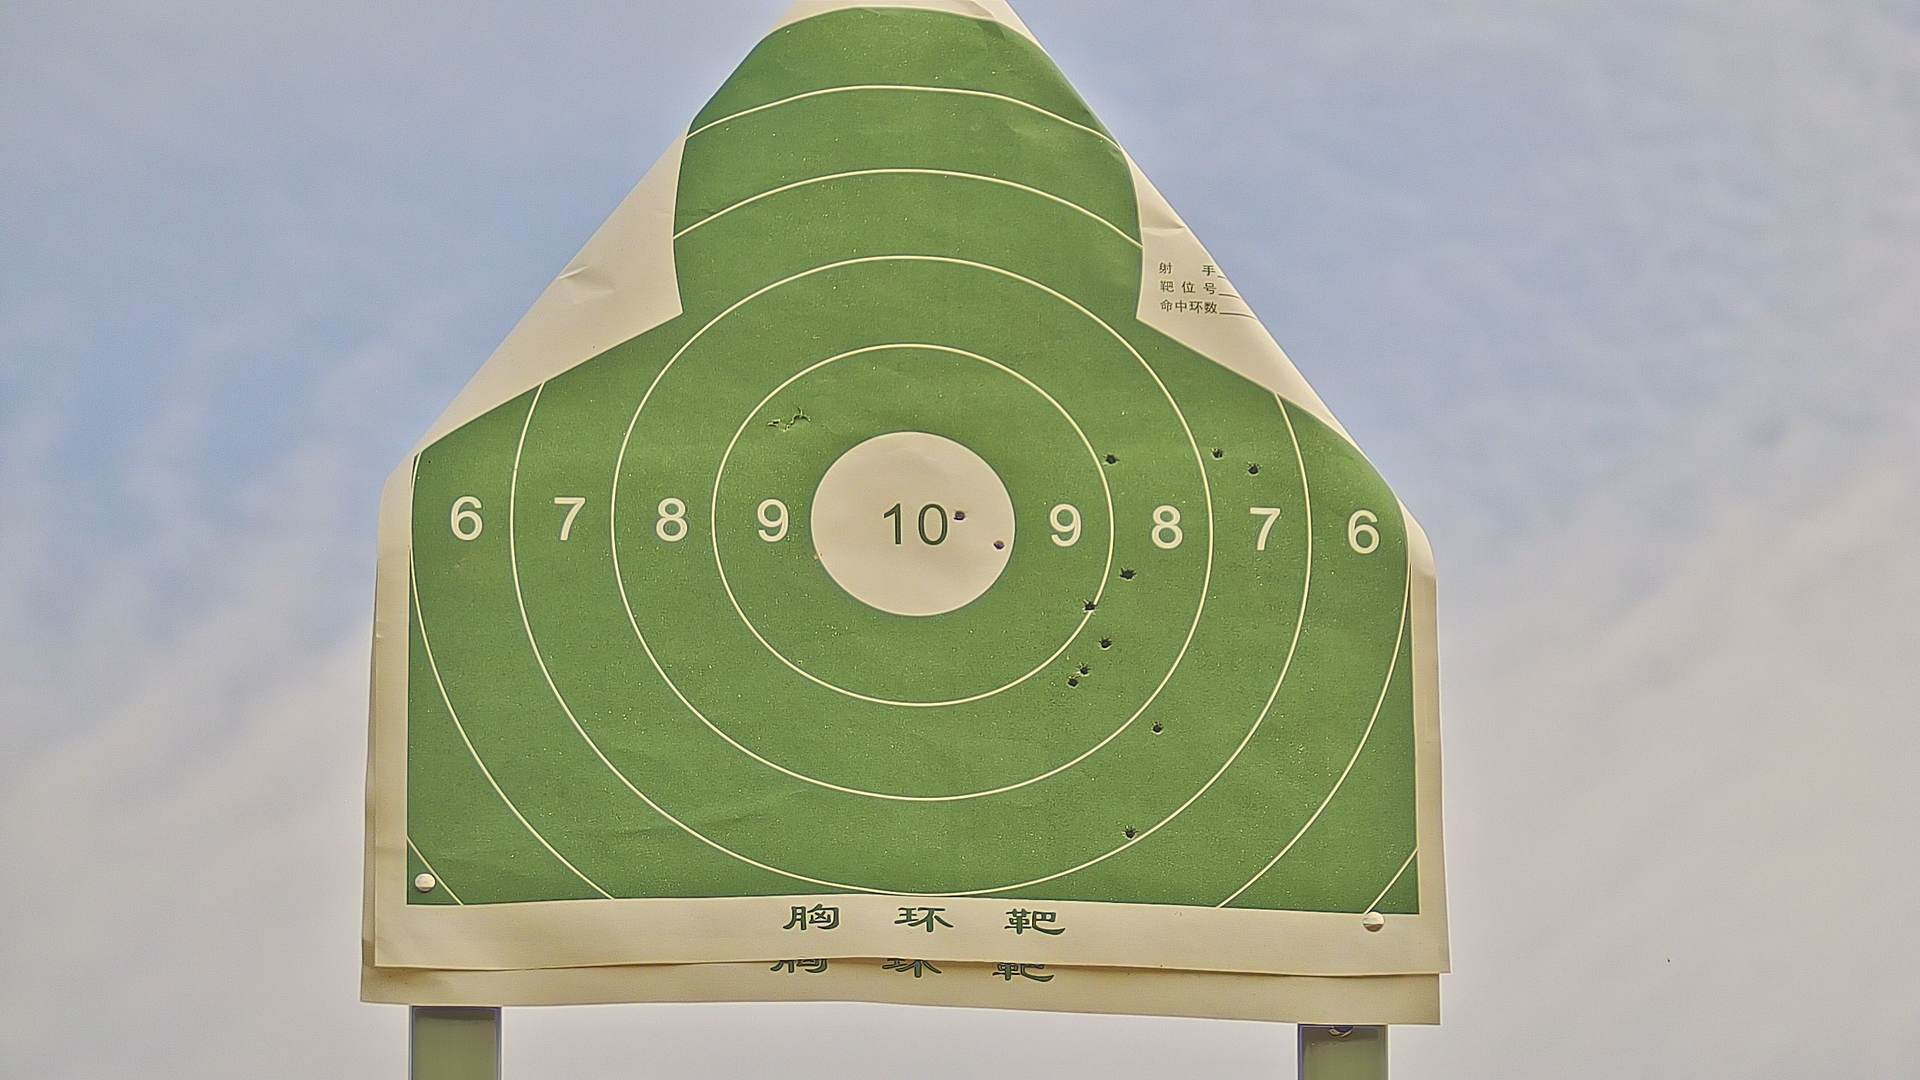hole: (1097, 632, 1118, 654), (1080, 595, 1100, 617), (1117, 562, 1138, 580), (1149, 715, 1167, 736), (949, 506, 968, 525), (1065, 674, 1083, 694), (1208, 444, 1226, 462), (1121, 822, 1139, 839), (1245, 458, 1261, 477), (1080, 659, 1093, 682), (990, 535, 1009, 551), (1104, 451, 1120, 465)
kernel: (907, 522, 913, 530)
target: (407, 15, 1419, 911)
ten: (808, 433, 1017, 620)
